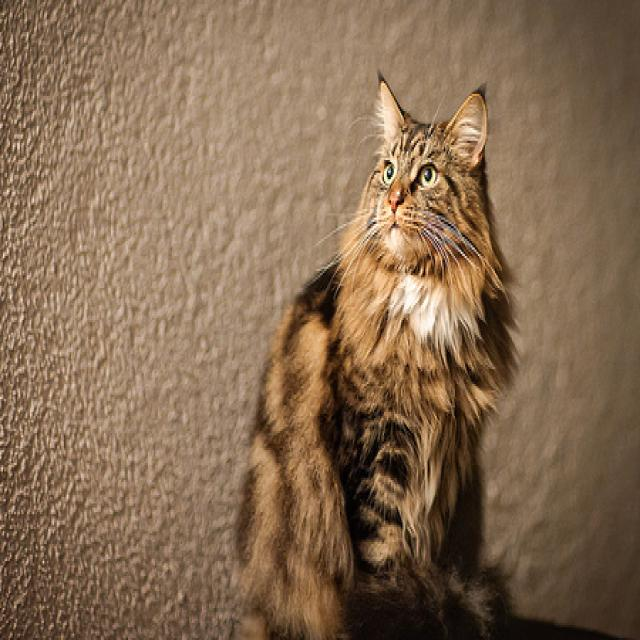Maine Coon: (230, 68, 518, 640)
